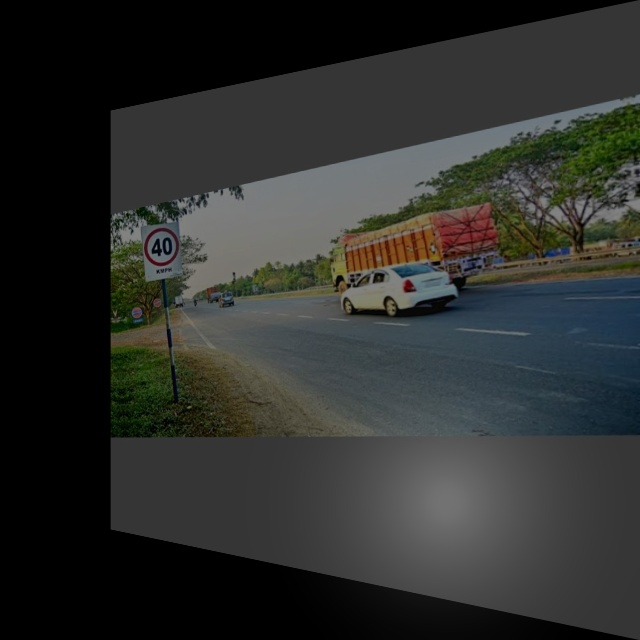Speed_Limit_40: (140, 215, 184, 284)
